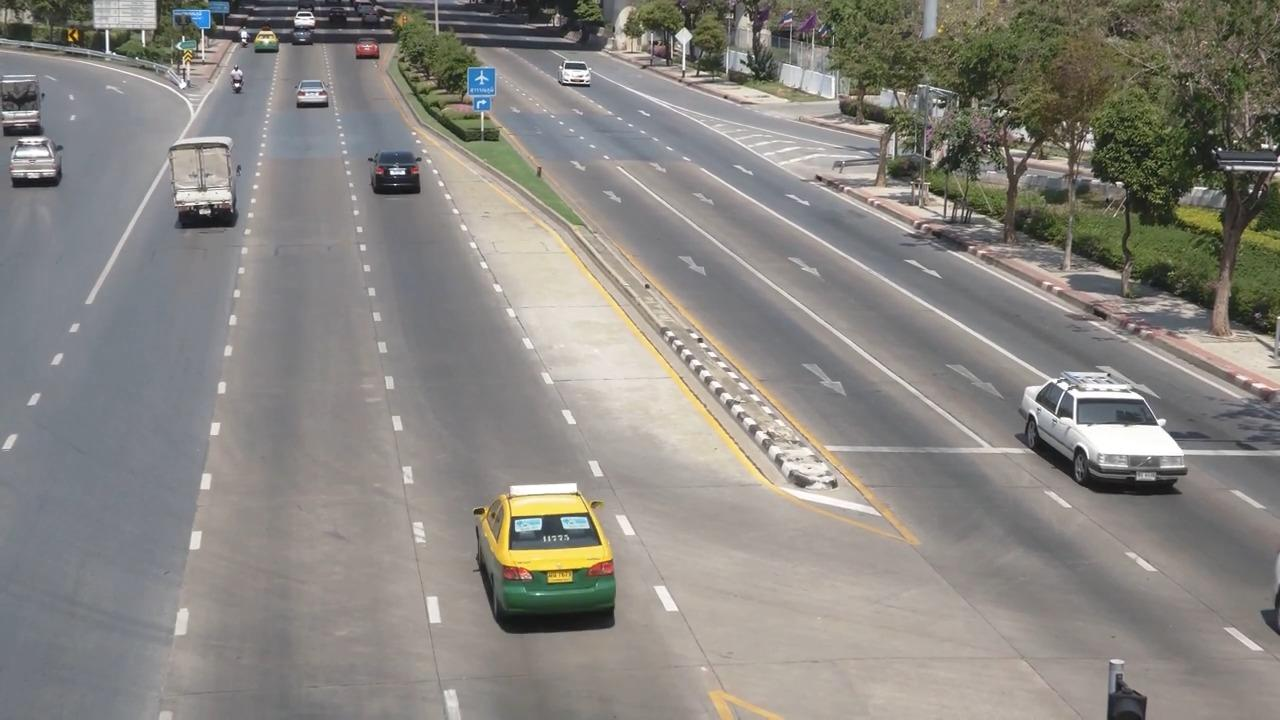CAR: (460, 462, 630, 646), (1011, 365, 1194, 506), (155, 120, 247, 241), (360, 146, 433, 207), (3, 133, 59, 200), (0, 71, 49, 141), (284, 75, 341, 124), (540, 48, 598, 96), (346, 31, 388, 70), (322, 9, 360, 45), (250, 27, 286, 64), (285, 30, 325, 57), (289, 9, 323, 37)
MOTOR: (223, 57, 250, 102)
